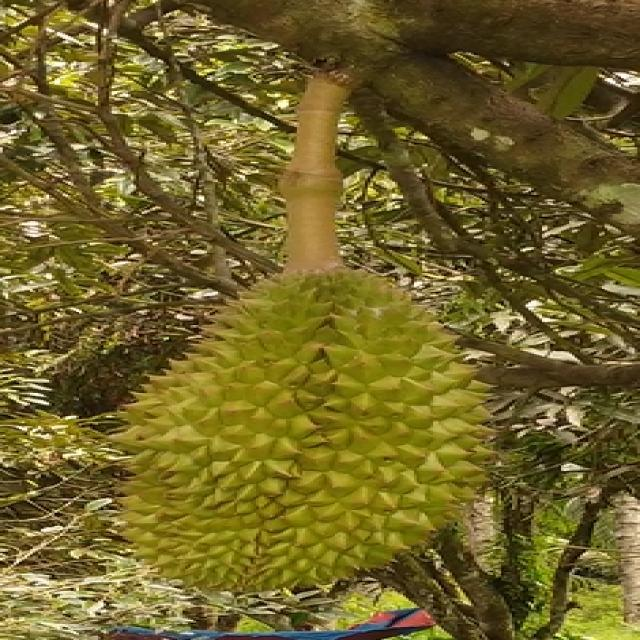immature: (98, 268, 496, 596)
